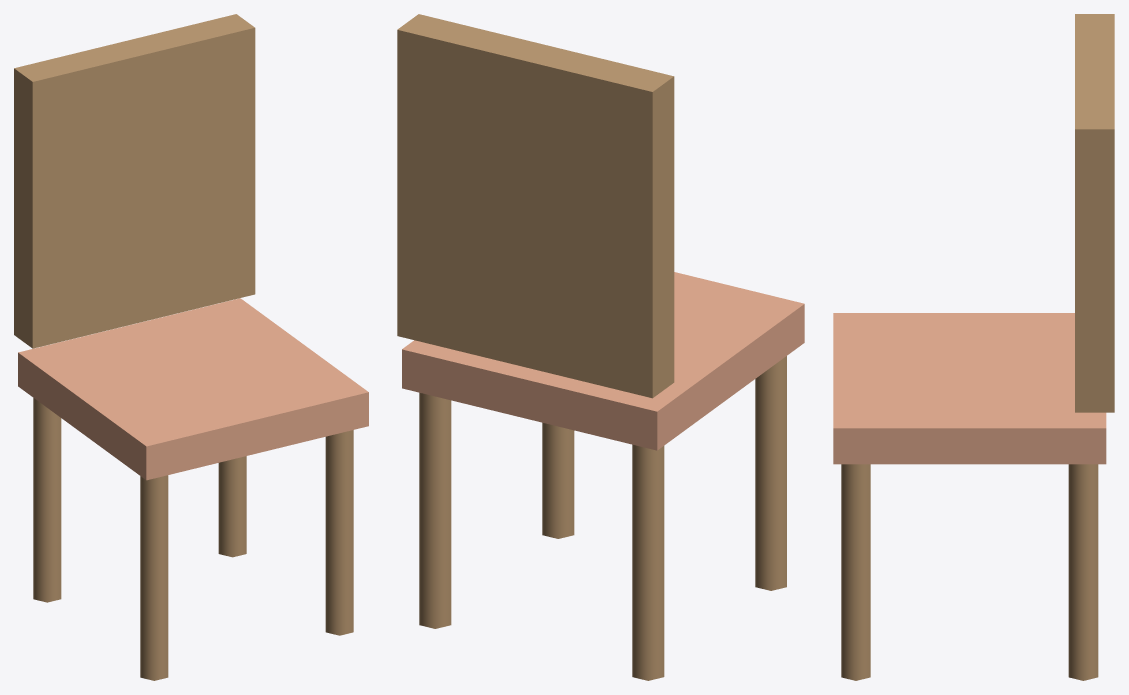
The model's file is cadeira.glb.
3 views of the same model, side by side, from view 1: azimuth 30°, elevation 25°; view 2: azimuth 150°, elevation 25°; view 3: azimuth 270°, elevation 25° (orthographic). The views are drawn at different scales.
Visible parts, largest first — view 1: root; view 2: root; view 3: root.
Part boxes in pixels (bbox=[...]): root: bbox=[14, 14, 368, 680]; root: bbox=[397, 14, 804, 680]; root: bbox=[833, 14, 1114, 680].
Bounding box in the file's own units: 0.48 × 1.08 × 0.495.
